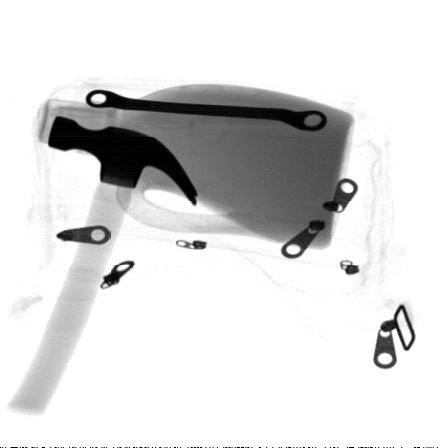Hammer: (4, 112, 202, 418)
Wrench: (84, 87, 328, 133)
